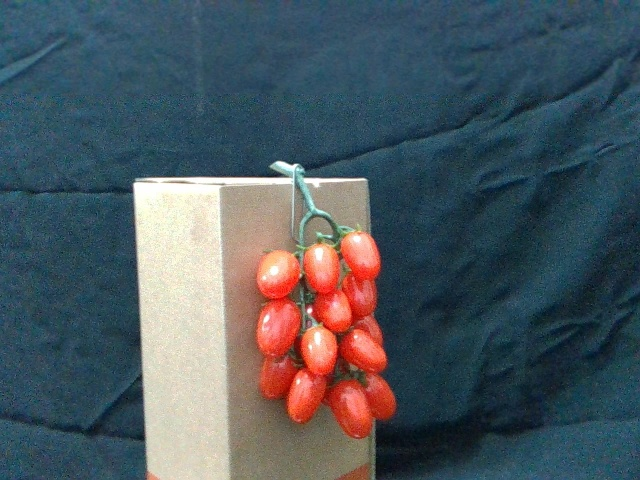tomato: (255, 300, 302, 357), (332, 382, 375, 442), (338, 224, 384, 276), (341, 330, 388, 377), (258, 249, 302, 298), (343, 268, 383, 320), (287, 370, 325, 424), (300, 323, 338, 376), (358, 370, 397, 421), (304, 242, 342, 294), (258, 354, 300, 399), (313, 288, 352, 334)
